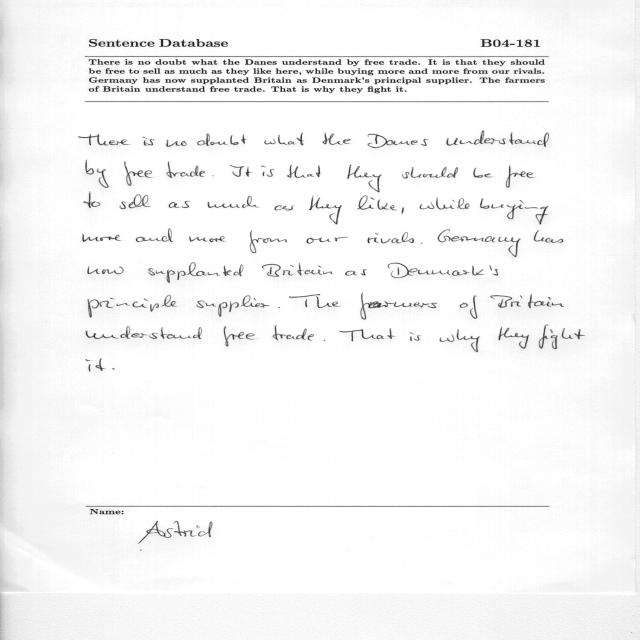word: (438, 229, 521, 257), (88, 295, 177, 318), (360, 294, 437, 320), (149, 263, 244, 283), (481, 199, 549, 225), (388, 263, 498, 278), (446, 131, 549, 147), (197, 295, 270, 317), (86, 326, 202, 339), (539, 325, 585, 349), (490, 294, 564, 308), (262, 263, 333, 277), (347, 165, 382, 193), (309, 196, 342, 224), (440, 329, 480, 352), (367, 134, 428, 148), (250, 231, 287, 254), (339, 328, 395, 341), (289, 294, 340, 308), (124, 161, 152, 186), (402, 167, 458, 179), (506, 165, 535, 188), (166, 161, 205, 178), (499, 327, 529, 349), (197, 133, 247, 146), (86, 160, 109, 188), (224, 327, 255, 347), (273, 325, 314, 340), (207, 196, 258, 208), (357, 196, 397, 211), (420, 198, 470, 210), (79, 134, 129, 145), (368, 232, 414, 243), (136, 229, 173, 242), (264, 133, 304, 145), (120, 194, 150, 209), (287, 165, 321, 178), (460, 295, 478, 319), (534, 230, 563, 243), (323, 133, 351, 145), (83, 234, 121, 242), (88, 266, 124, 274), (230, 165, 253, 177), (84, 192, 101, 208), (86, 359, 106, 372), (306, 237, 349, 243), (189, 236, 225, 242), (473, 168, 493, 178), (166, 140, 187, 147), (169, 201, 190, 208), (346, 269, 367, 276), (261, 166, 274, 177), (143, 137, 155, 146), (275, 206, 294, 211), (410, 332, 420, 341), (402, 207, 404, 214), (112, 368, 115, 370), (421, 243, 423, 244), (278, 307, 280, 308), (324, 340, 325, 341), (213, 176, 215, 176)
